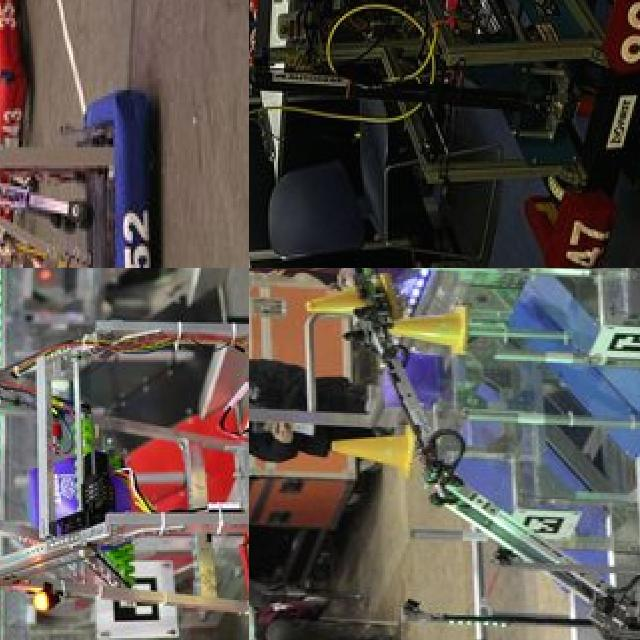FRC-Robots: (249, 0, 640, 268), (0, 268, 249, 640), (353, 454, 640, 640), (0, 33, 197, 268)
